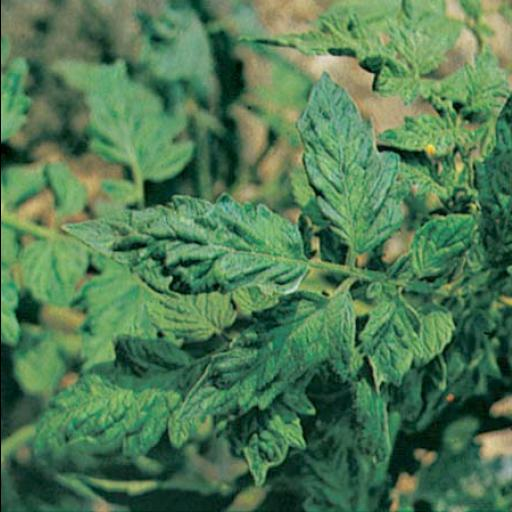disease_tomato: (68, 194, 302, 307), (180, 284, 358, 421), (34, 338, 202, 468), (292, 82, 400, 252), (360, 278, 410, 396), (400, 216, 472, 286)
